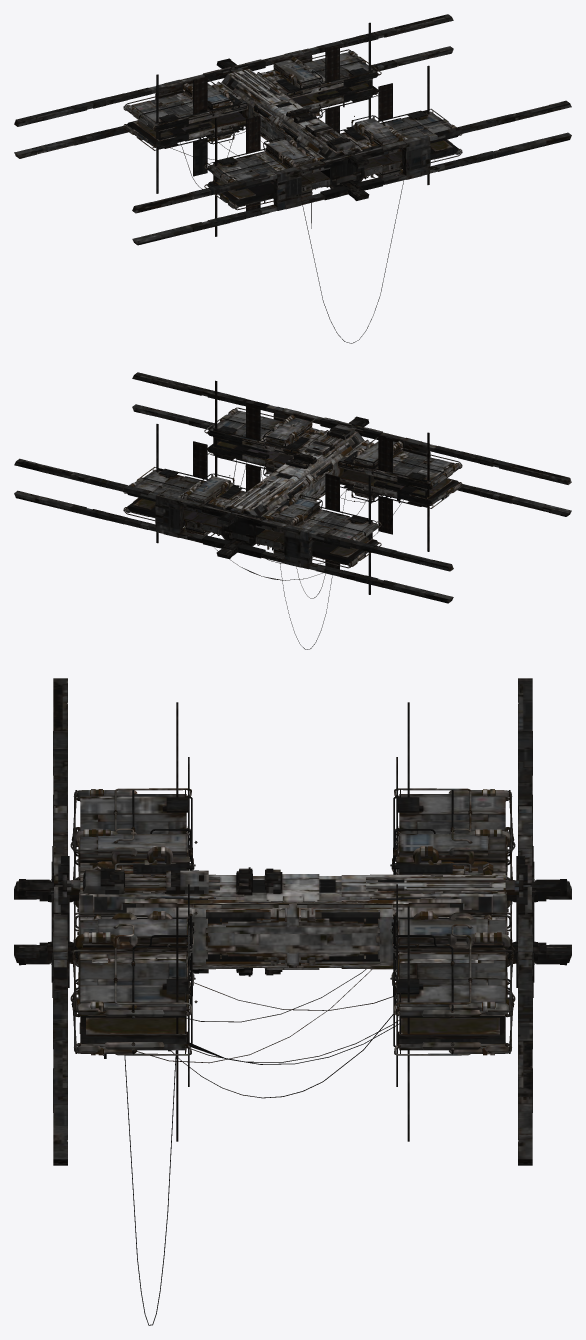
File: station_platform.glb
3 views of the same model, one above another, from view 1: azimuth 30°, elevation 25°; view 2: azimuth 150°, elevation 25°; view 3: azimuth 270°, elevation 25° (orthographic). The views are drawn at different scales.
Parts seen in each view (by area): view 1: station.010_low, station.008_low, station.001_low, station.023_low, station.006_low, station_low, station.018_low, station.007_low, station.002_low, station.019_low, station.026_low, station.030_low (+8 smaller); view 2: station.010_low, station.008_low, station.001_low, station.023_low, station.006_low, station_low, station.018_low, station.007_low, station.002_low, station.019_low, station.026_low, station.030_low (+9 smaller); view 3: station.006_low, station.008_low, station.010_low, station.018_low, station.023_low, station.026_low, station.007_low, station.019_low, station.001_low, station.030_low, station_low, station.005_low (+9 smaller).
Boxes of the visible parts, left/top/right/bottom form: station.010_low: left=14, top=14, right=571, bottom=245; station.008_low: left=126, top=52, right=453, bottom=206; station.001_low: left=159, top=44, right=426, bottom=211; station.023_low: left=123, top=49, right=462, bottom=210; station.006_low: left=228, top=69, right=356, bottom=153; station_low: left=127, top=68, right=458, bottom=206; station.018_low: left=131, top=52, right=451, bottom=178; station.007_low: left=127, top=59, right=452, bottom=203; station.002_low: left=155, top=22, right=430, bottom=236; station.019_low: left=203, top=58, right=398, bottom=201; station.026_low: left=125, top=50, right=460, bottom=208; station.030_low: left=226, top=73, right=364, bottom=187; station.010_low: left=14, top=372, right=571, bottom=603; station.008_low: left=132, top=411, right=459, bottom=564; station.001_low: left=159, top=402, right=426, bottom=569; station.023_low: left=123, top=407, right=462, bottom=568; station.006_low: left=228, top=431, right=357, bottom=511; station_low: left=127, top=426, right=458, bottom=564; station.018_low: left=134, top=411, right=454, bottom=536; station.007_low: left=133, top=417, right=458, bottom=561; station.002_low: left=155, top=380, right=430, bottom=594; station.019_low: left=187, top=416, right=382, bottom=560; station.026_low: left=125, top=408, right=460, bottom=566; station.030_low: left=221, top=436, right=359, bottom=545; station.006_low: left=80, top=874, right=505, bottom=969; station.008_low: left=78, top=796, right=507, bottom=1048; station.010_low: left=14, top=678, right=571, bottom=1165; station.018_low: left=80, top=794, right=505, bottom=1006; station.023_low: left=70, top=788, right=515, bottom=1055; station.026_low: left=75, top=790, right=510, bottom=1053; station.007_low: left=79, top=794, right=506, bottom=1050; station.019_low: left=18, top=846, right=567, bottom=997; station.001_low: left=133, top=757, right=452, bottom=1086; station.030_low: left=94, top=880, right=491, bottom=961; station_low: left=80, top=860, right=505, bottom=1046; station.005_low: left=79, top=875, right=506, bottom=962.
Size of the model in its own units: 1.91 by 1.06 by 1.08.
1 material, 1 textured.
